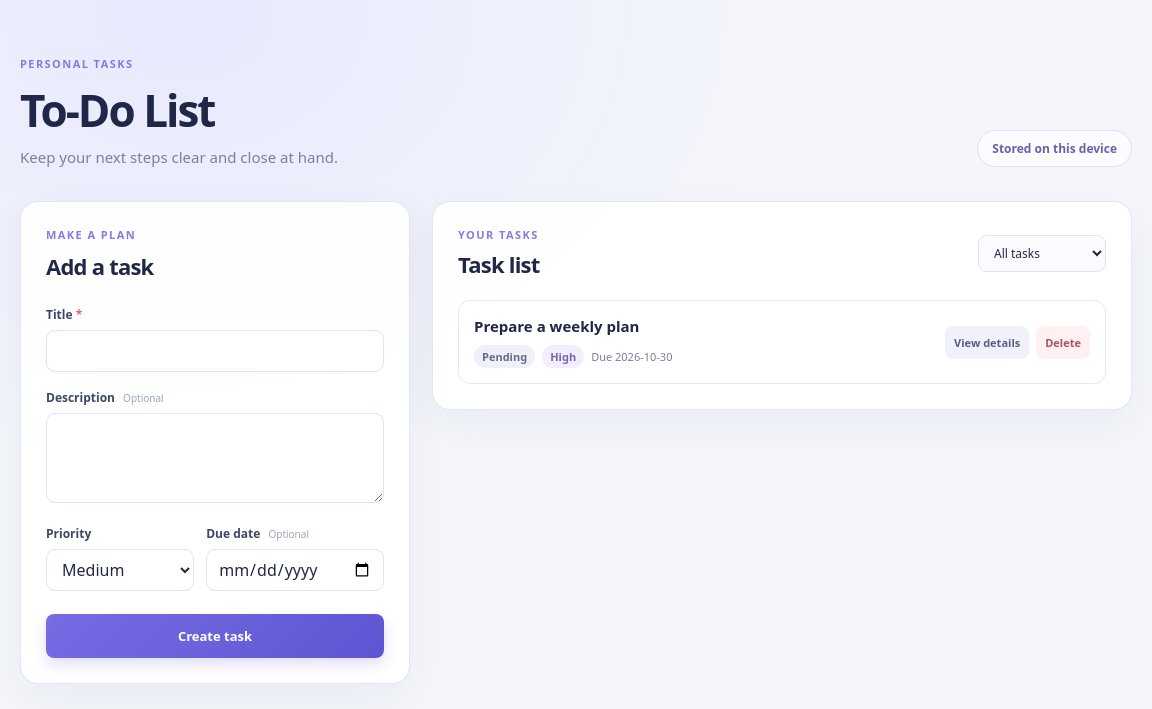
Test: task list and creation UI (P-US-01, P-US-02, P-US-05) › shows a server not-found message when a task cannot be inspected
Click the button "View details".
click(987, 342)  # box x1=945 y1=326 x2=1029 y2=358
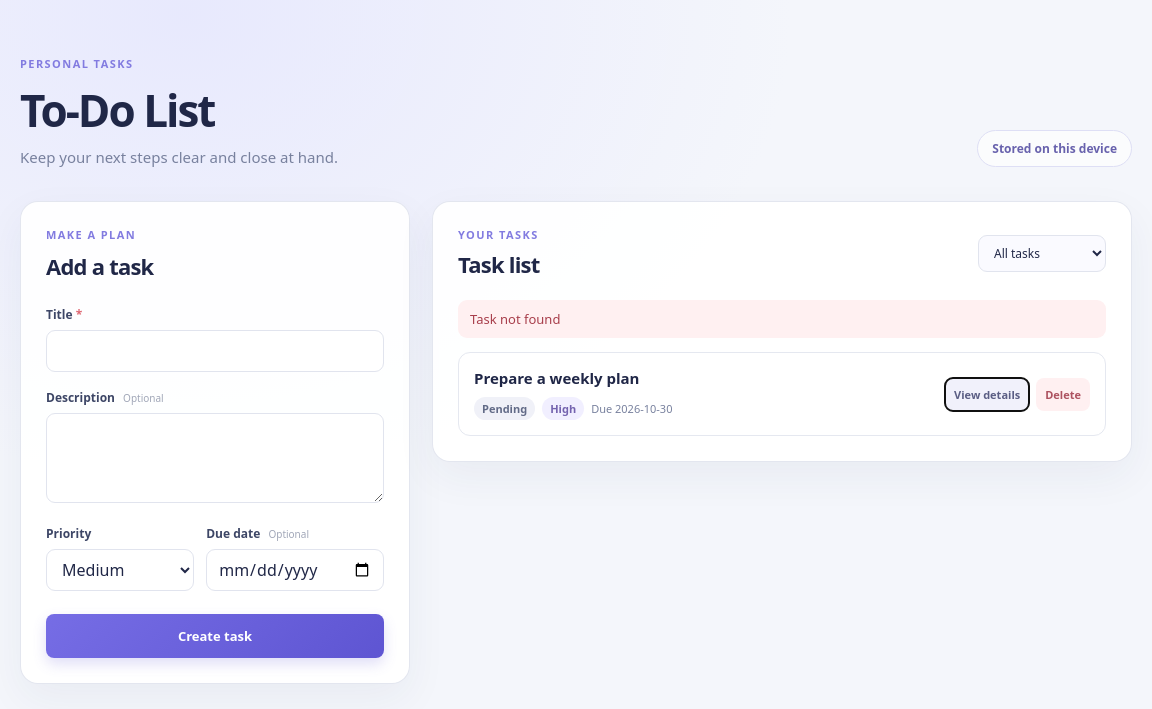
Expected: the message reads "Task not found", x1=470 y1=310 x2=560 y2=328
